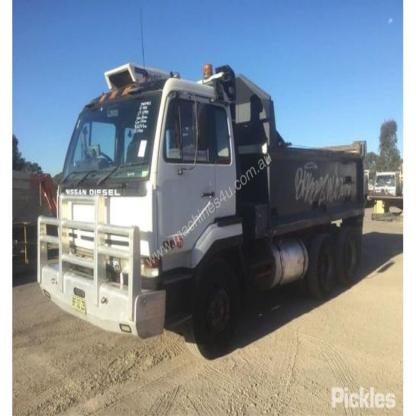dump_truck: (31, 51, 374, 365)
